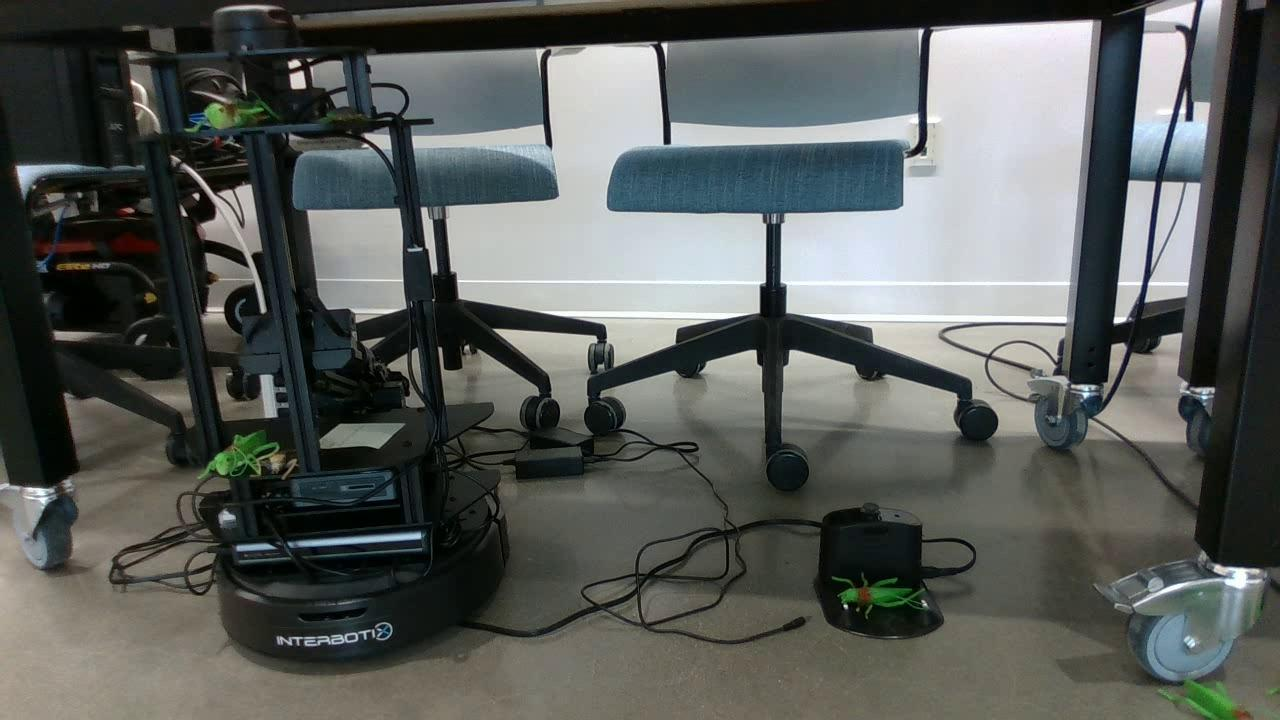grasshopper: (1154, 670, 1259, 720), (825, 569, 931, 618), (200, 429, 277, 479), (199, 94, 284, 130), (1266, 678, 1279, 698)
